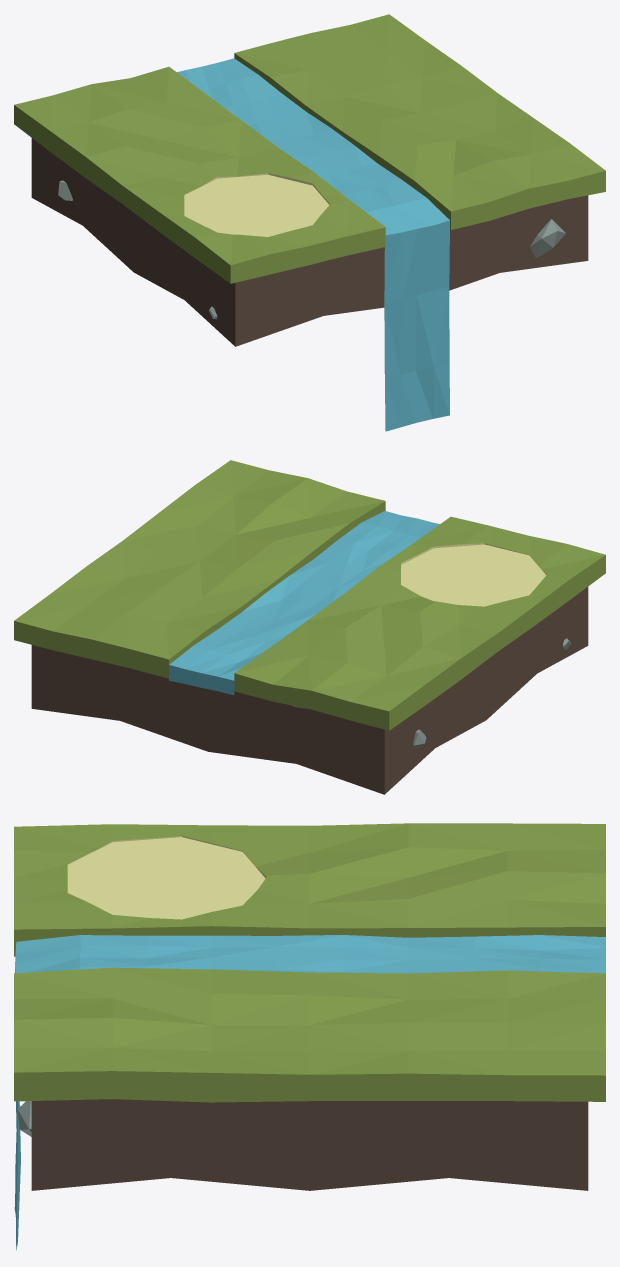
File: nature_terrain_01.fbx
3 views of the same model, one above another, from view 1: azimuth 30°, elevation 25°; view 2: azimuth 150°, elevation 25°; view 3: azimuth 270°, elevation 25° (orthographic). The views are drawn at different scales.
Visible parts, largest first — view 1: nature_terrain, nature_terrain.001, Icosphere; view 2: nature_terrain, nature_terrain.001; view 3: nature_terrain, nature_terrain.001.
Boxes of the visible parts, box(x1,y1,x2,y2) form: nature_terrain: box(14, 14, 605, 346); nature_terrain.001: box(177, 58, 449, 431); Icosphere: box(58, 180, 565, 319); nature_terrain: box(14, 460, 605, 794); nature_terrain.001: box(169, 511, 439, 695); nature_terrain: box(14, 823, 605, 1190); nature_terrain.001: box(14, 935, 605, 1250).
Bounding box in the file's own units: 2000 × 1068 × 2000.
